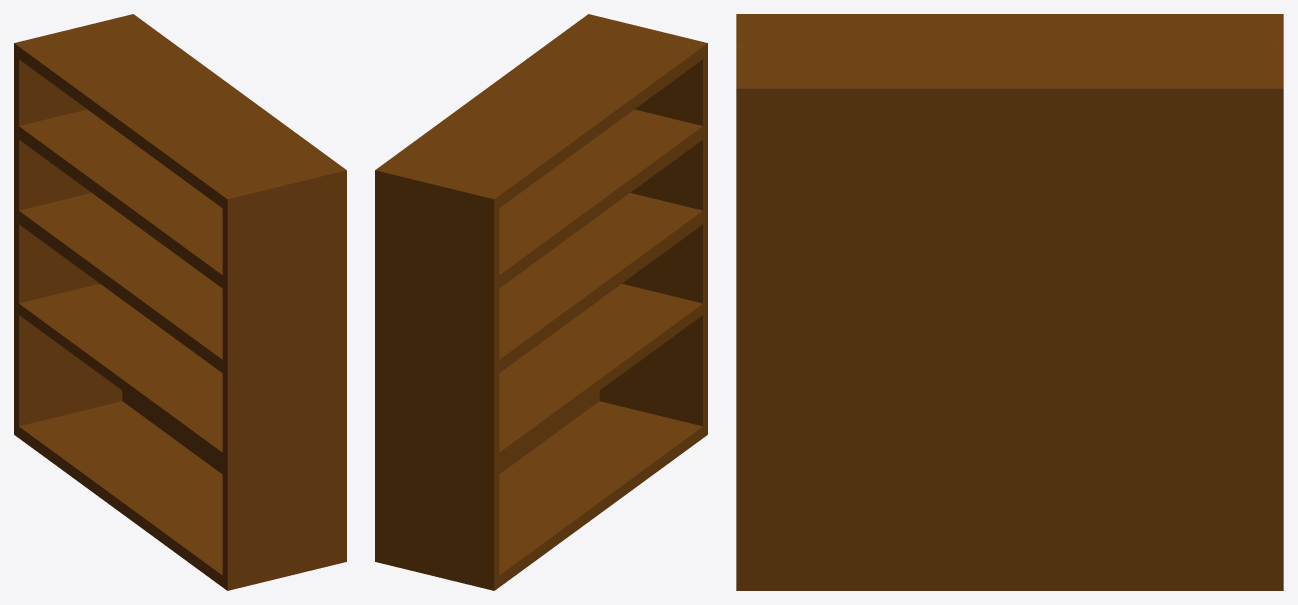
The model's file is Lemari Buku.fbx.
The picture shows the model from 3 angles, left to right: view 1: azimuth 30°, elevation 25°; view 2: azimuth 150°, elevation 25°; view 3: azimuth 270°, elevation 25°; orthographic projection. The views are drawn at different scales.
Visible parts, largest first — view 1: Cube; view 2: Cube; view 3: Cube.
Boxes of the visible parts, x1,y1,x2,y2 form: Cube: (14, 14, 346, 590); Cube: (375, 14, 707, 590); Cube: (736, 14, 1283, 590).
Bounding box in the file's own units: 200 × 627 × 619.
Materials: 1 (1 with a texture image).
